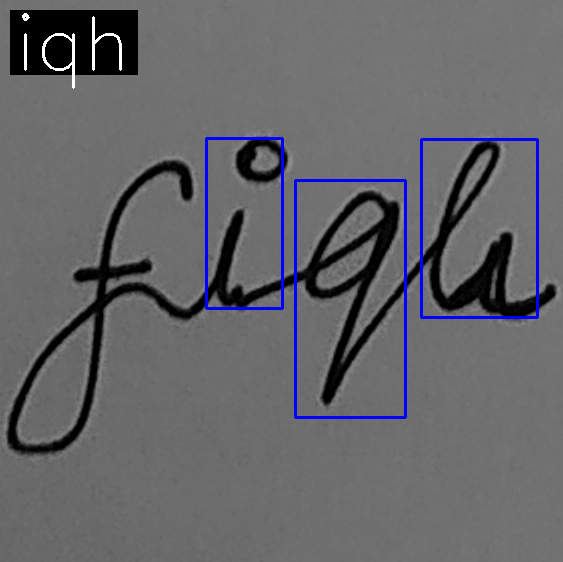f: (3, 155, 197, 459)
h: (426, 138, 531, 325)
i: (204, 135, 290, 311)
q: (300, 187, 404, 406)
